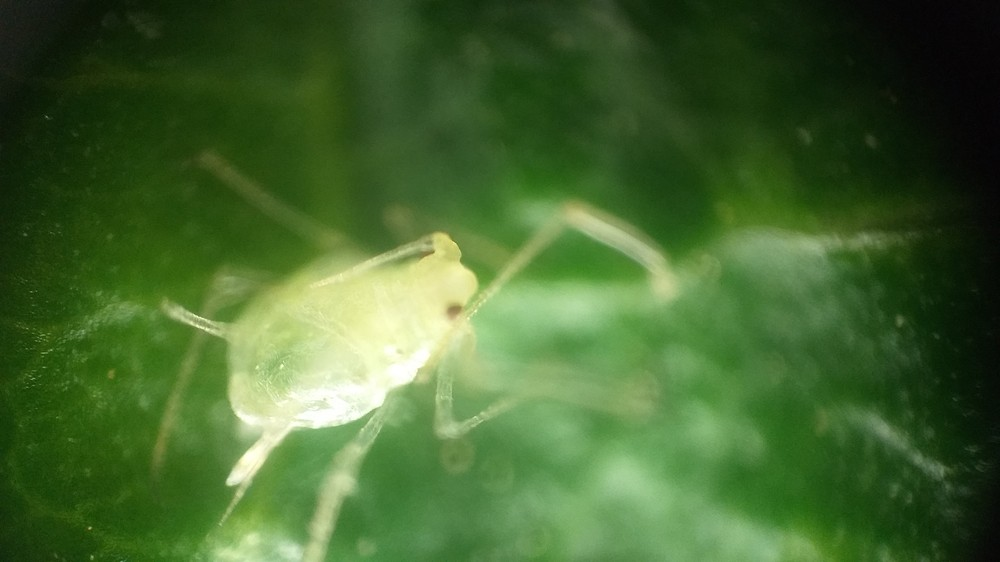Pulgon: (153, 167, 690, 511)
